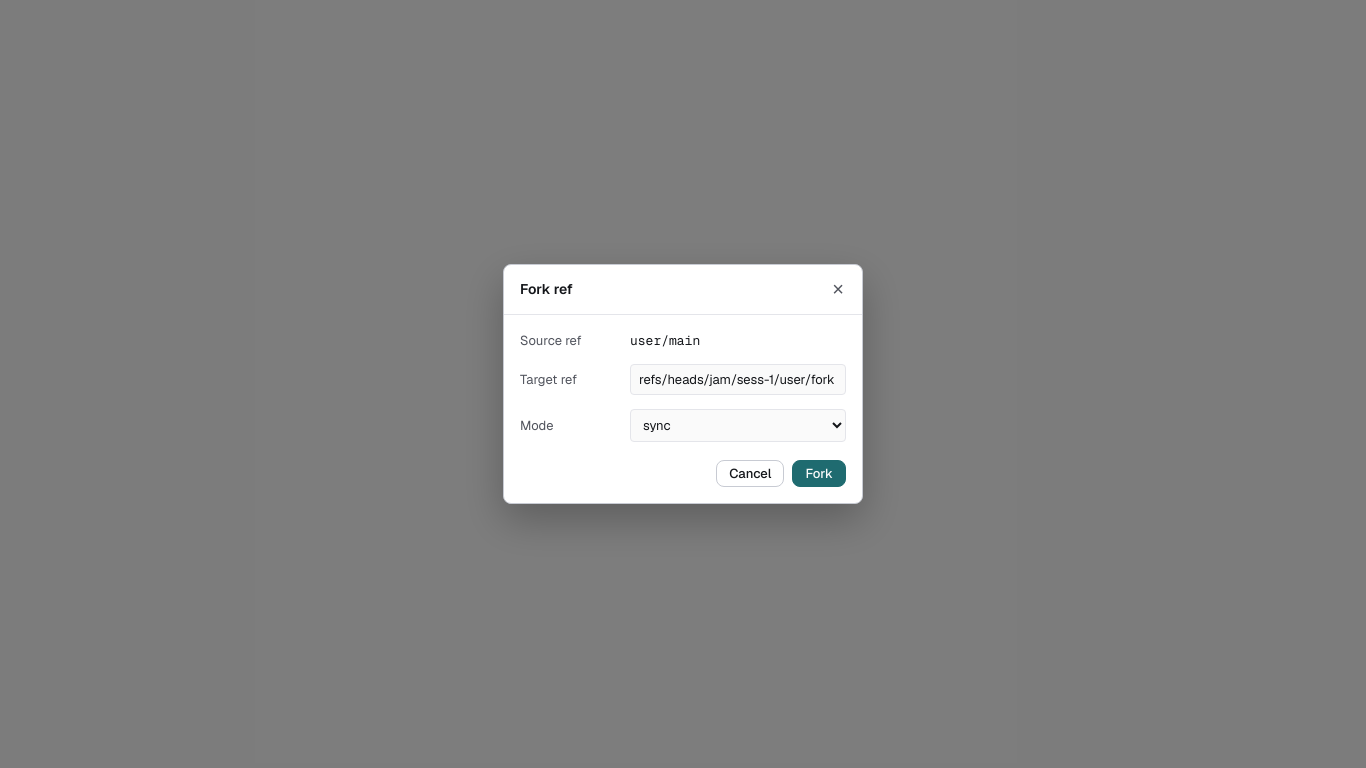
ForkDialog › unresolved source ref surfaces an error and does NOT issue the fork
The image size is (1366, 768).
Click the button "Fork": coordinates (819, 474) [792,460,846,487]
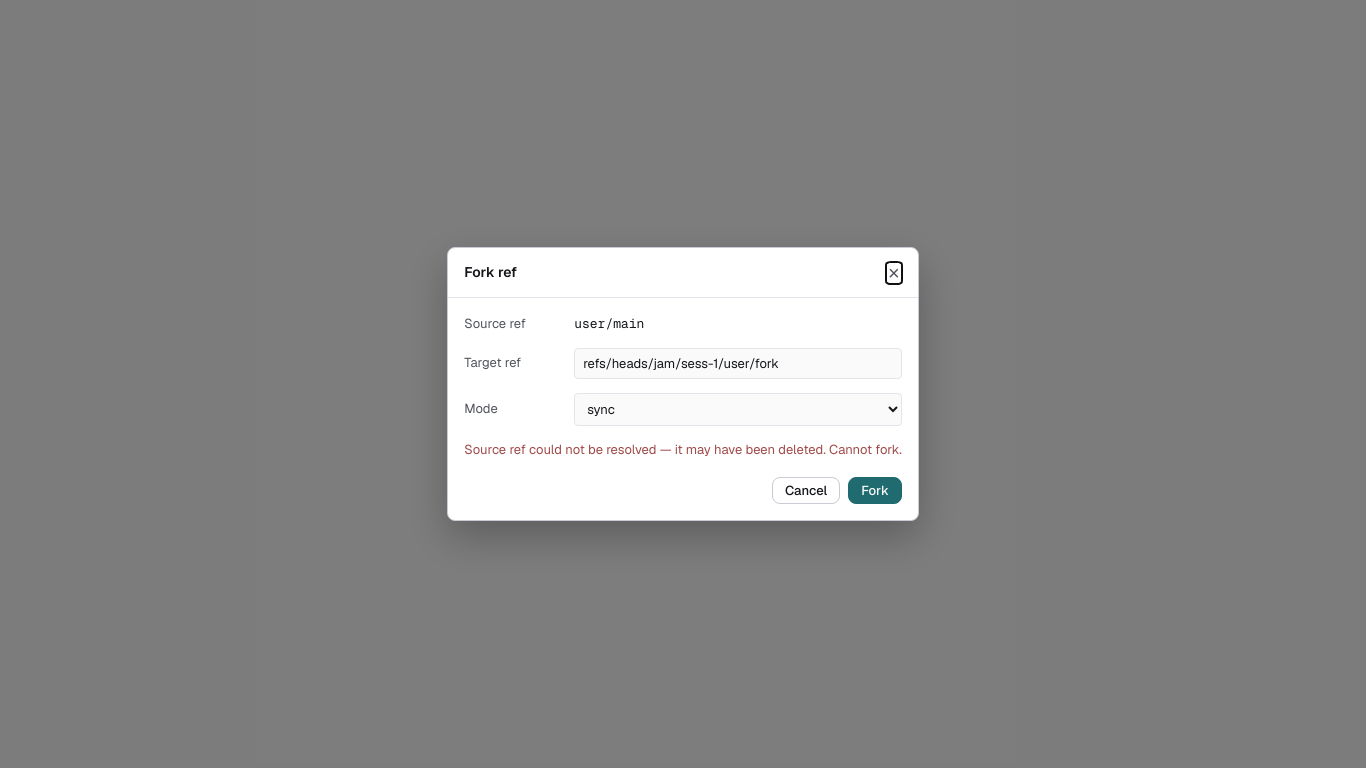
Check: the message "Source ref could not be resolved — it may have been deleted. Cannot fork." is shown, box [464,440,902,459]
Check: the message shows "could not be resolved", box [464,440,902,458]
